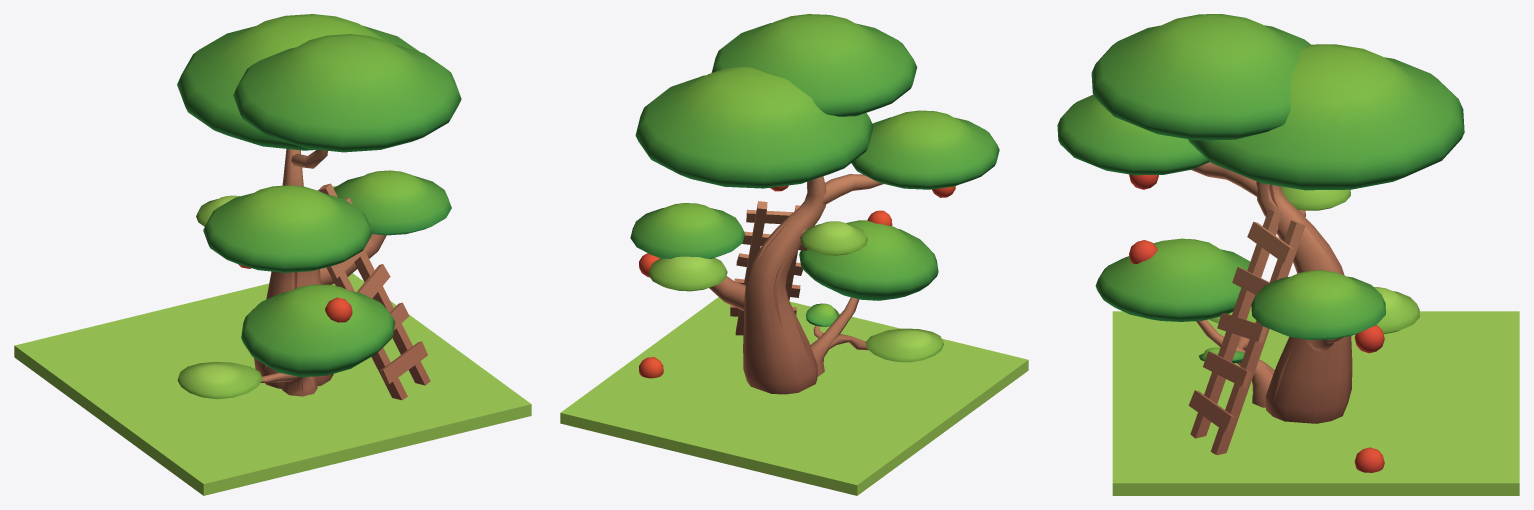
Rendered from apple_tree.glb.
3 views of the same model, side by side, from view 1: azimuth 30°, elevation 25°; view 2: azimuth 150°, elevation 25°; view 3: azimuth 270°, elevation 25° (orthographic). The views are drawn at different scales.
Parts seen in each view (by area): view 1: Apple Tree; view 2: Apple Tree; view 3: Apple Tree.
Boxes of the visible parts, x1=… form: Apple Tree: x1=14, y1=14, x2=531, y2=495; Apple Tree: x1=560, y1=14, x2=1028, y2=495; Apple Tree: x1=1057, y1=14, x2=1519, y2=495.
Bounding box in the file's own units: 0.2962 × 0.3169 × 0.3293.
Materials: 2 (2 with a texture image).
